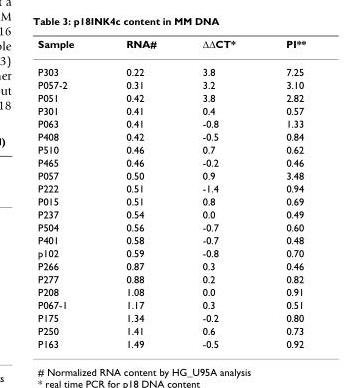table: (37, 36, 305, 349)
table column: (178, 36, 260, 349), (99, 36, 178, 349), (37, 36, 99, 349), (260, 36, 305, 349)
table column header: (37, 36, 305, 57)
table row: (37, 36, 305, 57), (37, 57, 305, 78), (37, 90, 305, 103), (37, 103, 305, 116), (37, 116, 305, 129), (37, 129, 305, 142), (37, 142, 305, 155), (37, 155, 305, 168), (37, 168, 305, 181), (37, 181, 305, 194), (37, 194, 305, 207), (37, 207, 305, 220), (37, 220, 305, 233), (37, 233, 305, 246), (37, 246, 305, 259), (37, 259, 305, 272), (37, 272, 305, 285), (37, 285, 305, 298), (37, 310, 305, 323), (37, 323, 305, 336), (37, 336, 305, 349), (37, 78, 305, 90), (37, 298, 305, 310)
